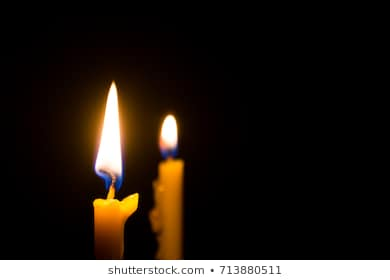Fire: (95, 78, 127, 191), (158, 111, 181, 159)
